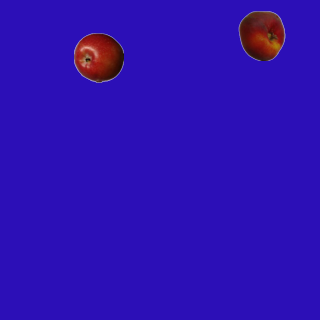Apple Braeburn: (73, 32, 123, 82)
Nectarine Flat: (236, 10, 286, 60)
